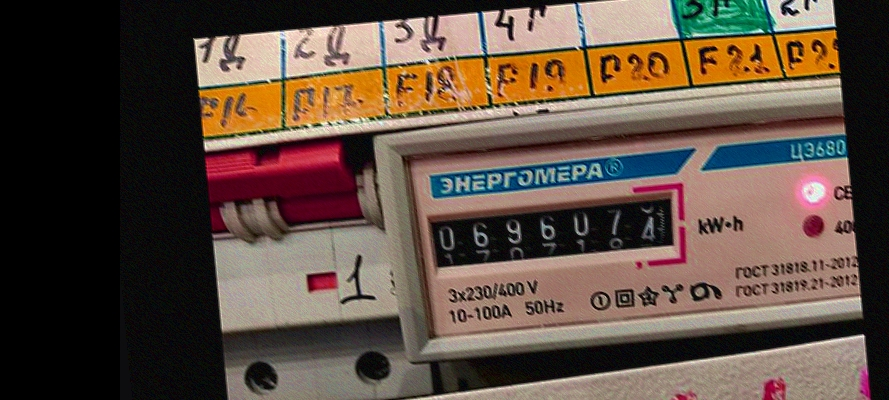0: (436, 221, 460, 251), (572, 206, 593, 236), (472, 218, 491, 246)
4: (639, 213, 659, 242)
6: (537, 209, 558, 240)
7: (605, 204, 626, 234)
9: (505, 214, 525, 244)
screen: (413, 177, 694, 286)
